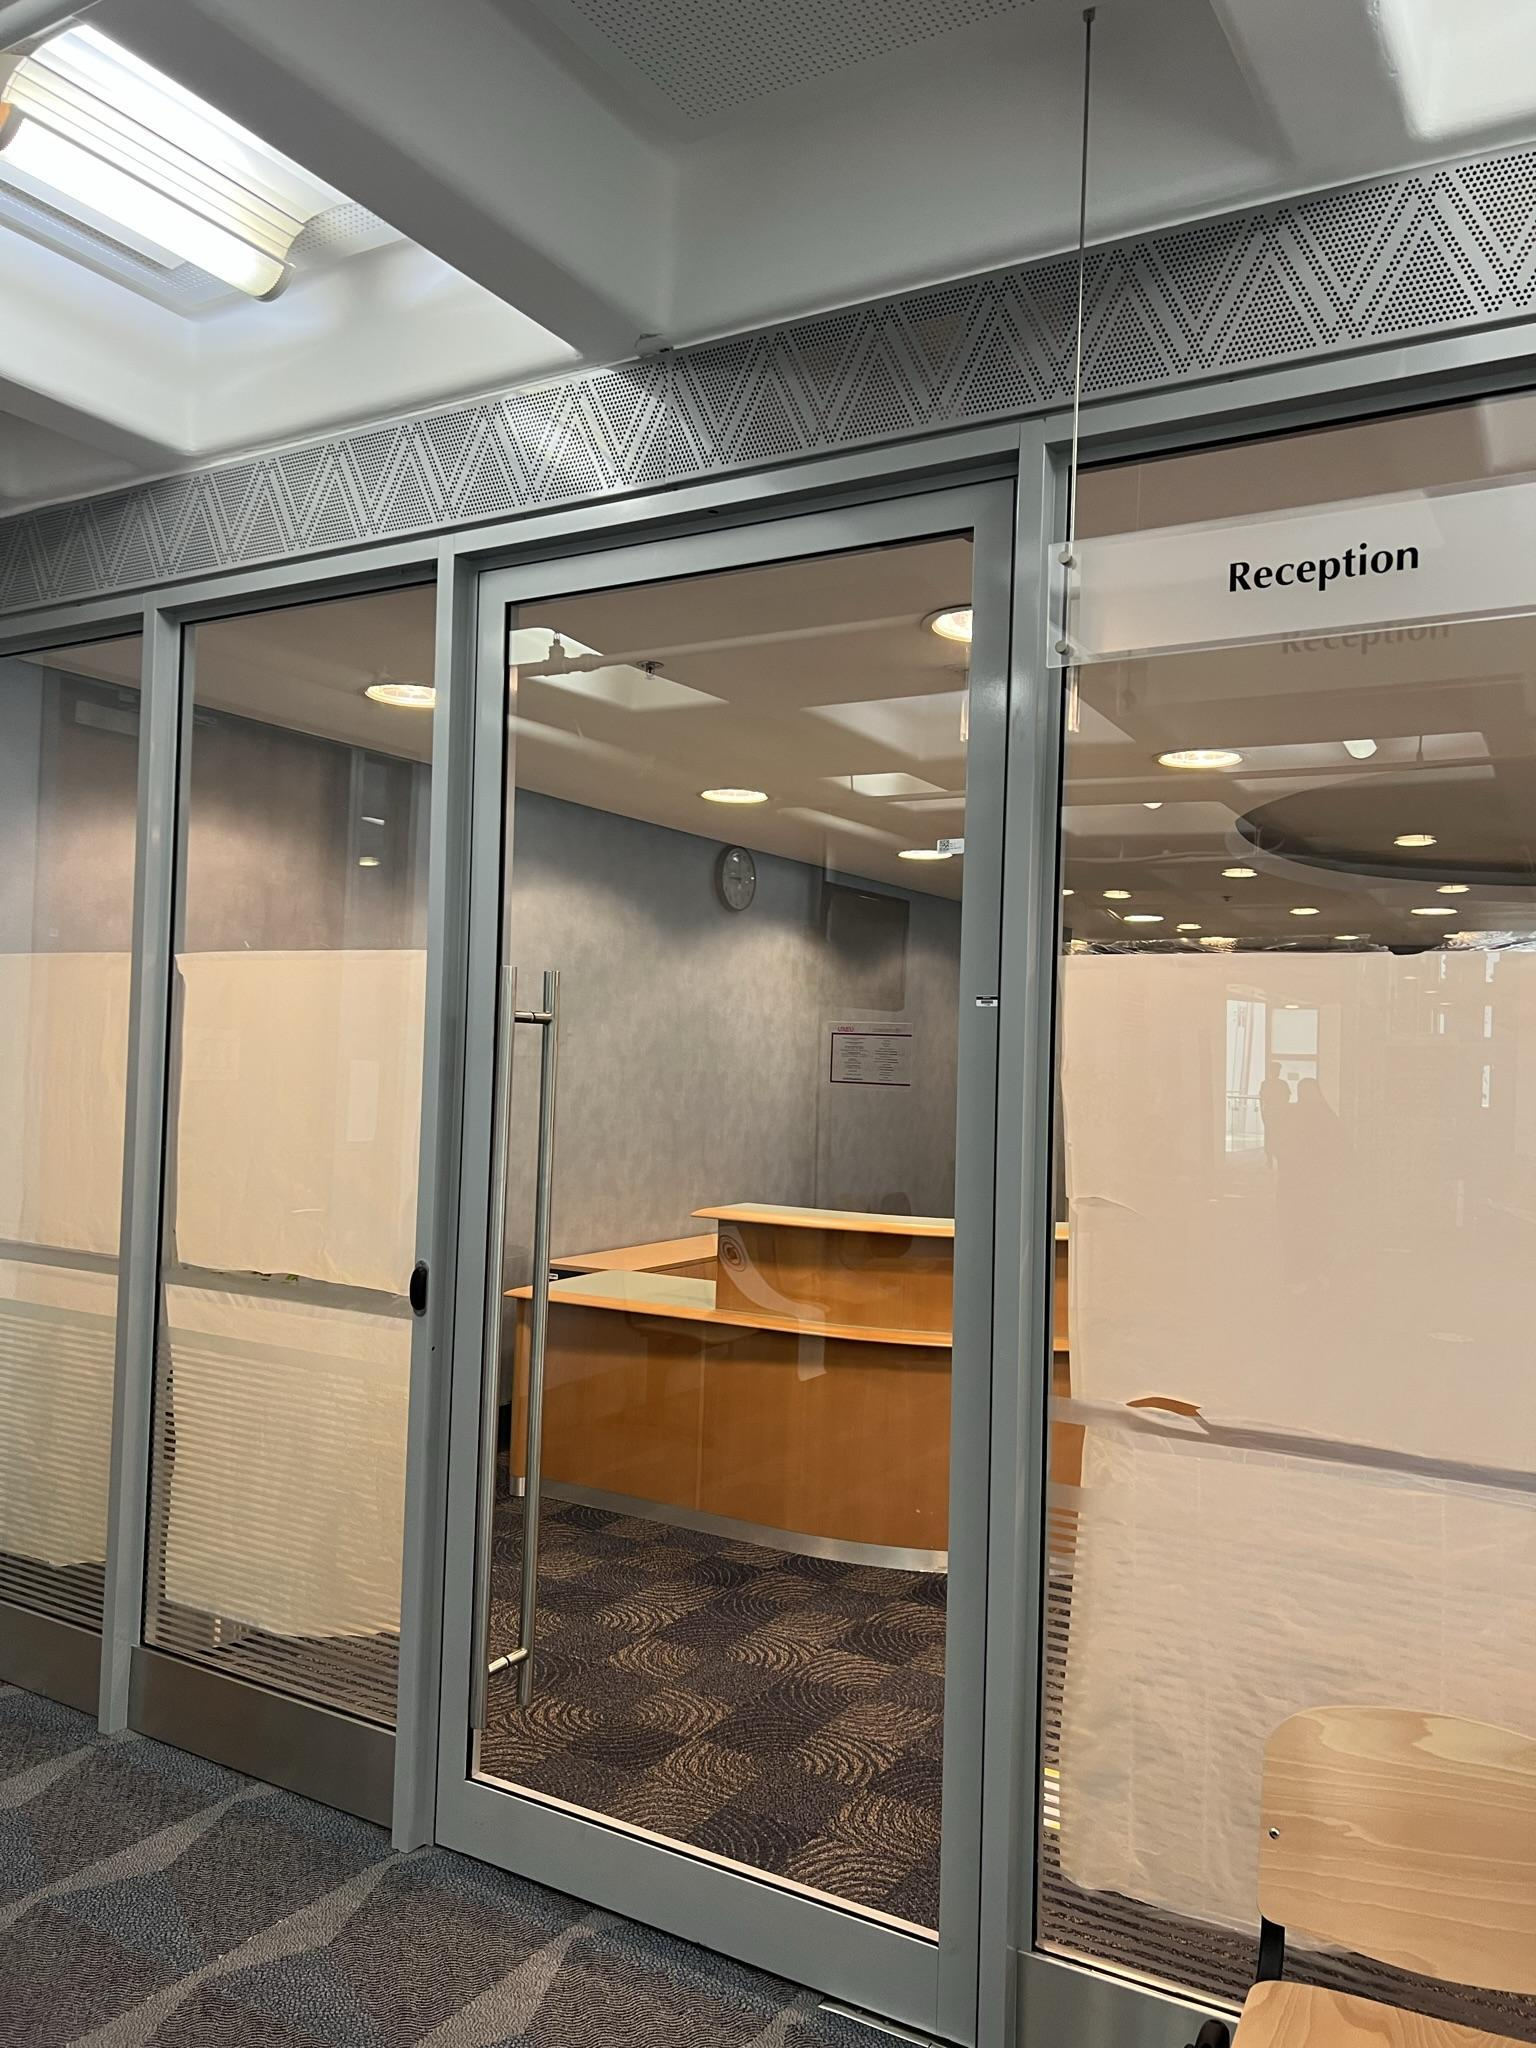door: (461, 526, 1033, 2016)
handle: (478, 921, 532, 1746)
